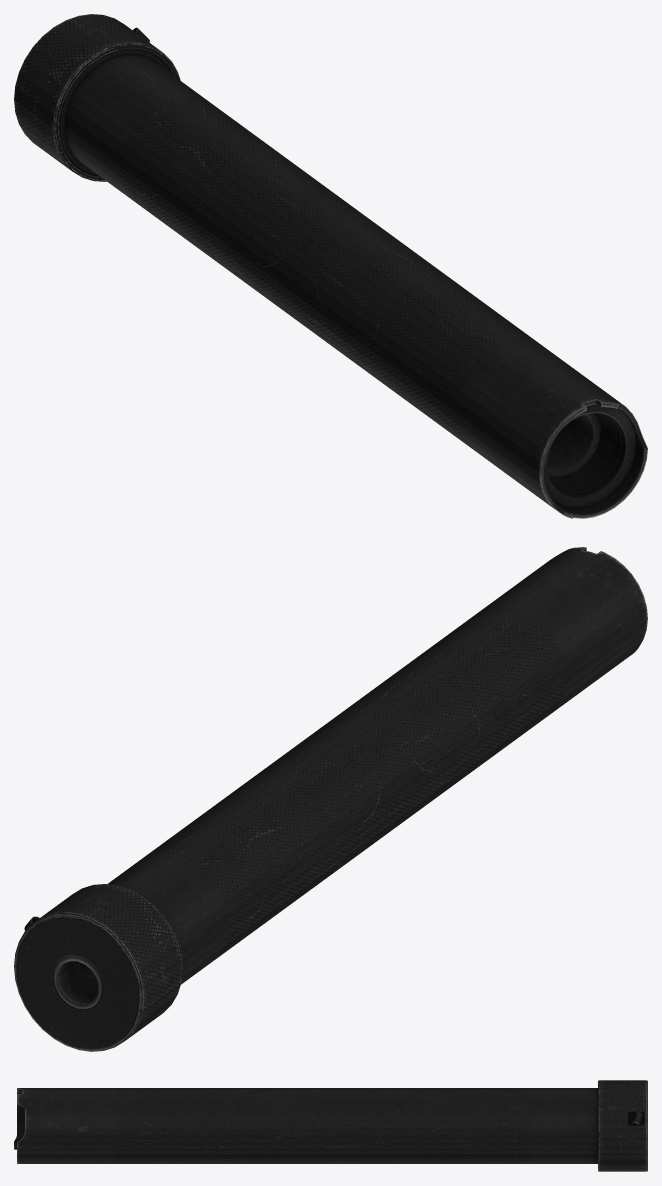
3 views of the same model, one above another, from view 1: azimuth 30°, elevation 25°; view 2: azimuth 150°, elevation 25°; view 3: azimuth 270°, elevation 25° (orthographic). The views are drawn at different scales.
Visible parts, largest first — view 1: TW_65144ff50e00edc79406836f_PZ_Import; view 2: TW_65144ff50e00edc79406836f_PZ_Import; view 3: TW_65144ff50e00edc79406836f_PZ_Import.
Boxes of the visible parts, x1,y1,x2,y2 form: TW_65144ff50e00edc79406836f_PZ_Import: [14, 14, 647, 518]; TW_65144ff50e00edc79406836f_PZ_Import: [14, 547, 647, 1051]; TW_65144ff50e00edc79406836f_PZ_Import: [14, 1080, 647, 1171].
Size of the model in its own units: 0.0277 by 0.1921 by 0.0277.
1 material, 1 textured.
